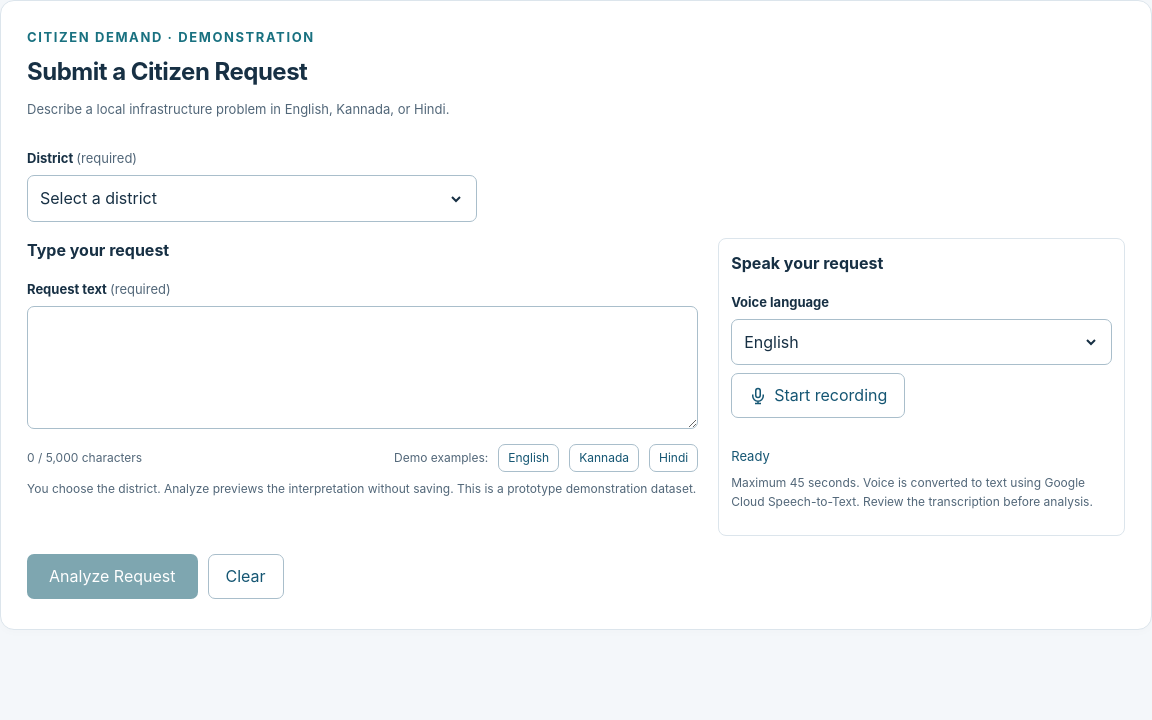
Scenario: transcribing is visible and analysis stays disabled until completion
Click the button "Start recording" at (818, 396), box [731,373,905,418]
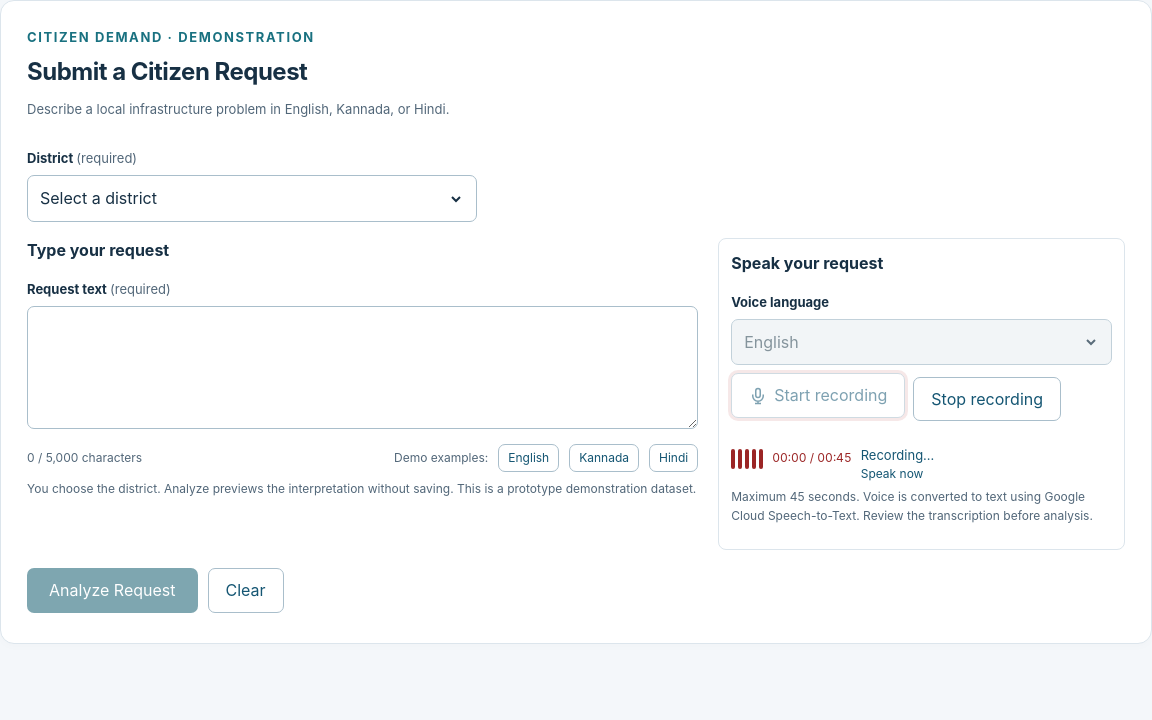
Result: the text "Recording…" is shown at [861,447,934,463]
Click the button "Stop recording" at (987, 399), box [913,376,1061,421]
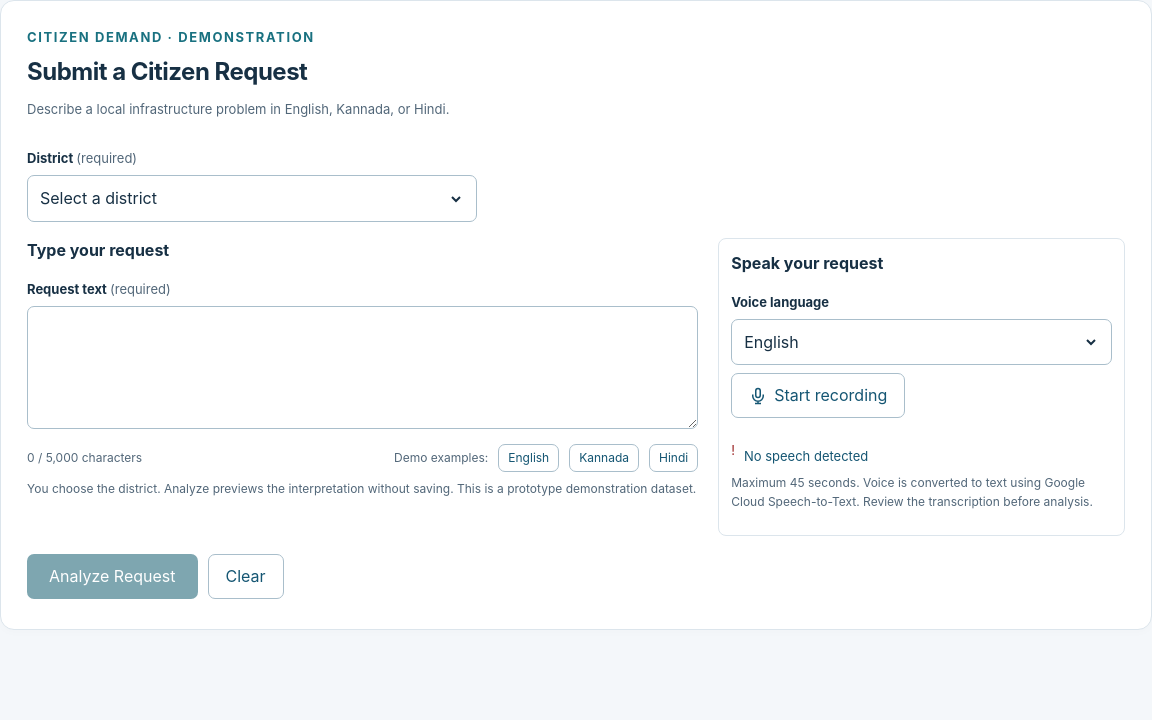
Expected: the button "Analyze Request" is disabled, [27,554,198,599]
Result: the text "No speech detected" is shown at [744,446,868,466]
